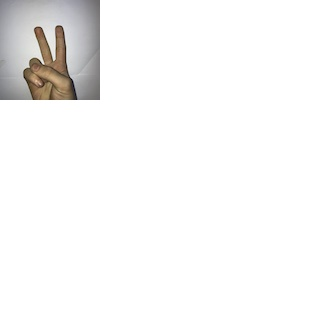scissors: (18, 20, 82, 99)
